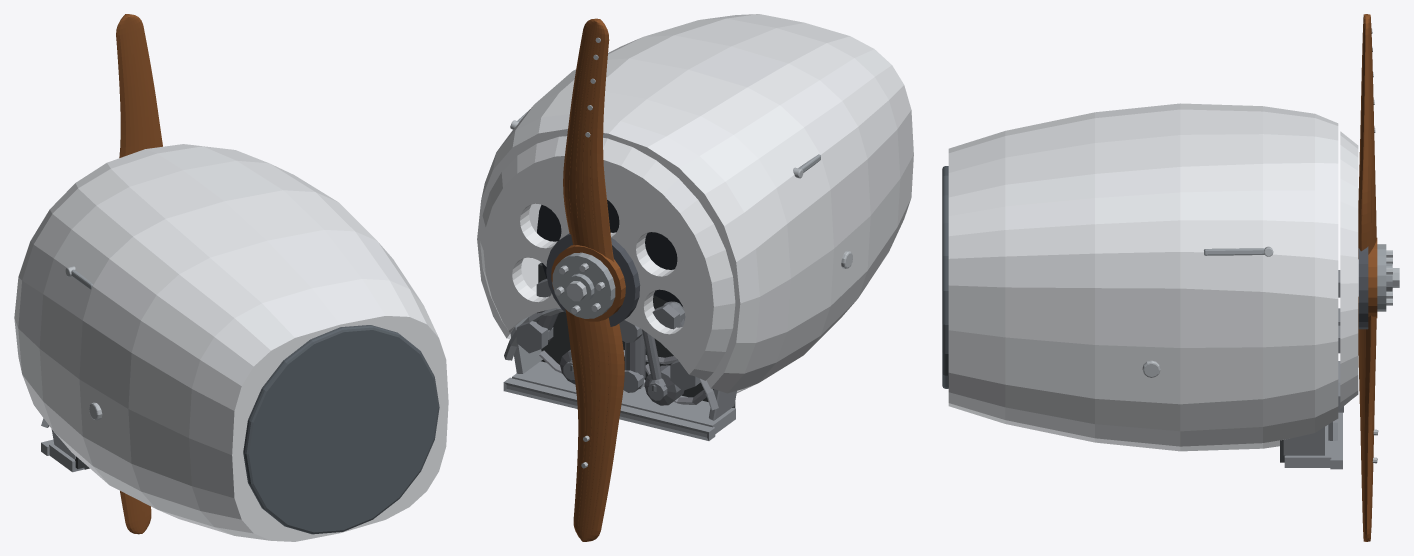
The model's file is engine_radial.glb.
3 renders of one model, left to right at view 1: azimuth 30°, elevation 25°; view 2: azimuth 150°, elevation 25°; view 3: azimuth 270°, elevation 25°, orthographic.
Visible parts, largest first — view 1: Full, Half, Prop; view 2: Half, Full, Prop; view 3: Full, Half, Prop.
Boxes of the visible parts, bbox=[...] form: Full: bbox=[14, 146, 448, 541]; Half: bbox=[14, 144, 337, 484]; Prop: bbox=[116, 14, 162, 534]; Half: bbox=[477, 58, 833, 440]; Full: bbox=[478, 14, 913, 440]; Prop: bbox=[546, 18, 640, 541]; Full: bbox=[942, 103, 1358, 469]; Half: bbox=[1180, 103, 1358, 460]; Prop: bbox=[1358, 14, 1399, 541].
Bounding box in the file's own units: 1.21 × 2.06 × 1.64.
